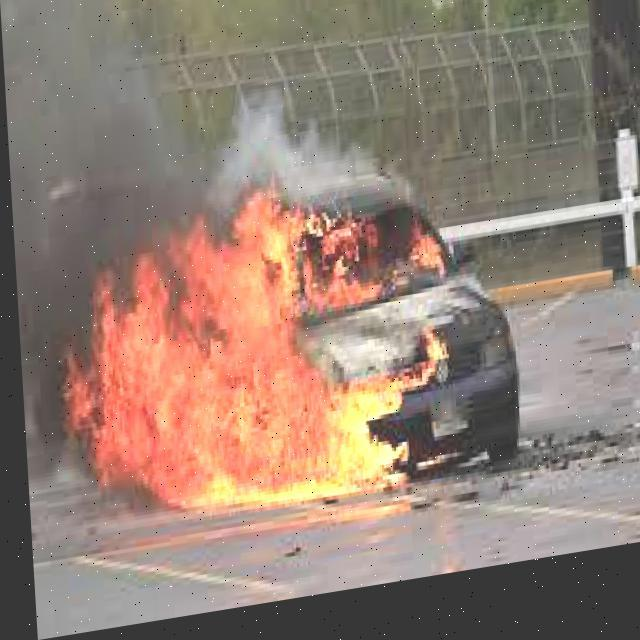Fire: (68, 154, 404, 560)
